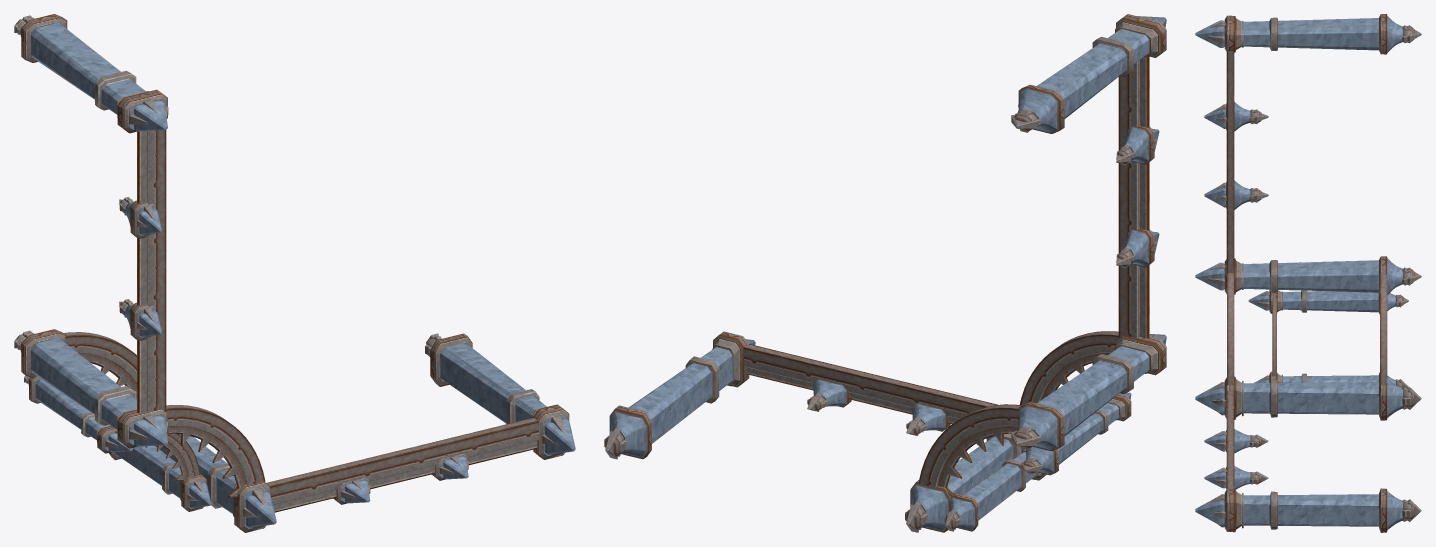
The model's file is Arena_Walls2_A.fbx.
3 renders of one model, left to right at view 1: azimuth 30°, elevation 25°; view 2: azimuth 150°, elevation 25°; view 3: azimuth 270°, elevation 25°, orthographic. The views are drawn at different scales.
Visible parts, largest first — view 1: Arena_Walls2_A; view 2: Arena_Walls2_A; view 3: Arena_Walls2_A.
Boxes of the visible parts, x1,y1,x2,y2 form: Arena_Walls2_A: (14,14,575,532); Arena_Walls2_A: (604,14,1166,532); Arena_Walls2_A: (1195,14,1421,532).
Bounding box in the file's own units: 2751 × 2714 × 1557.
